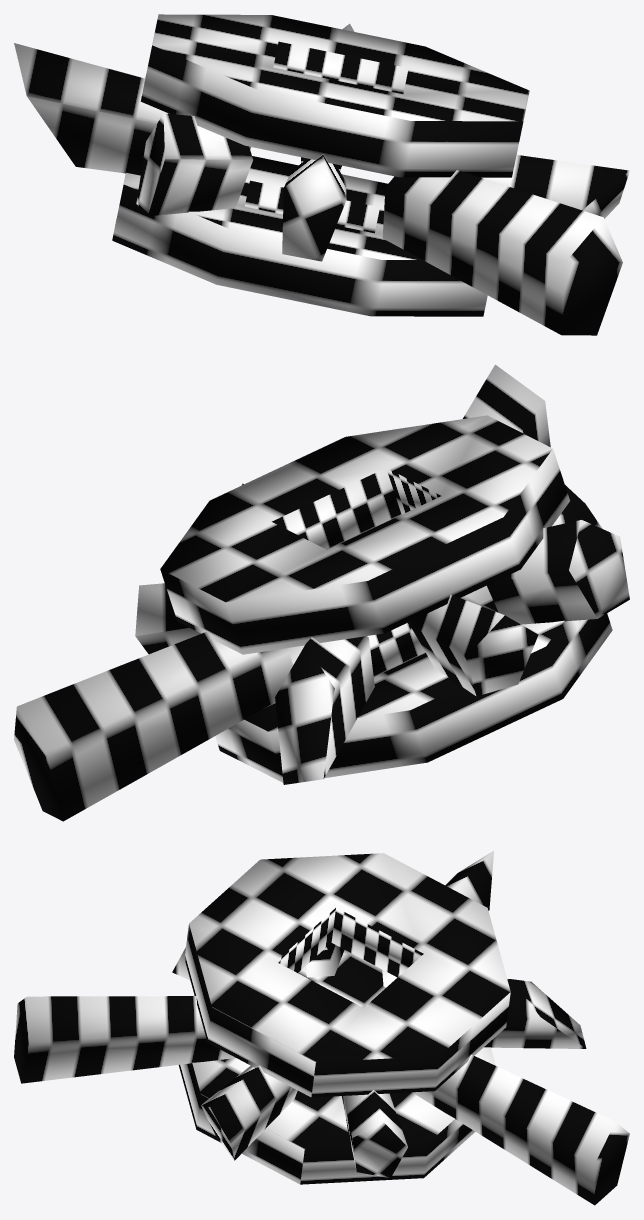
File: initqu29.dae
The picture shows the model from 3 angles, top to bottom: view 1: azimuth 30°, elevation 25°; view 2: azimuth 150°, elevation 25°; view 3: azimuth 270°, elevation 25°; orthographic projection. The views are drawn at different scales.
Parts seen in each view (by area): view 1: item; view 2: item; view 3: item.
Boxes of the visible parts, <box> form: item: <box>14,14,629,335</box>; item: <box>14,364,629,821</box>; item: <box>14,850,629,1205</box>.
Bounding box in the file's own units: 1.18 × 1.73 × 0.7049.
1 material, 1 textured.
